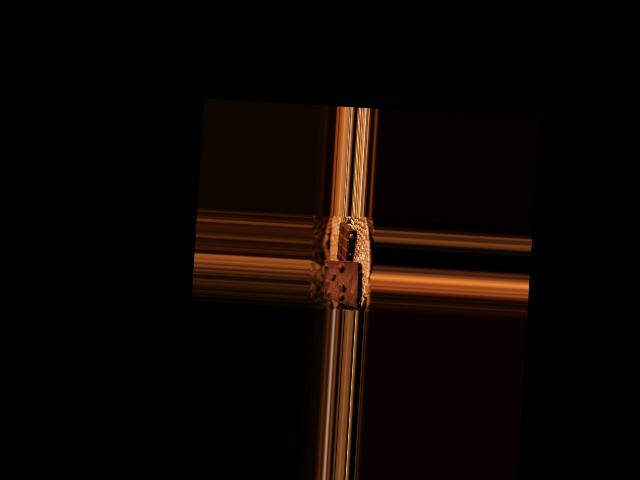chocolate: (320, 257, 363, 308)
